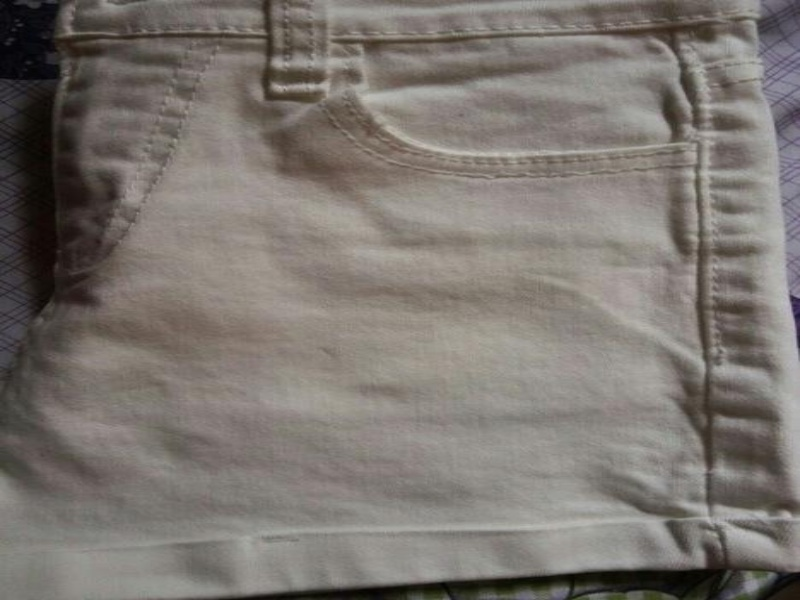shorts: (3, 2, 798, 599)
